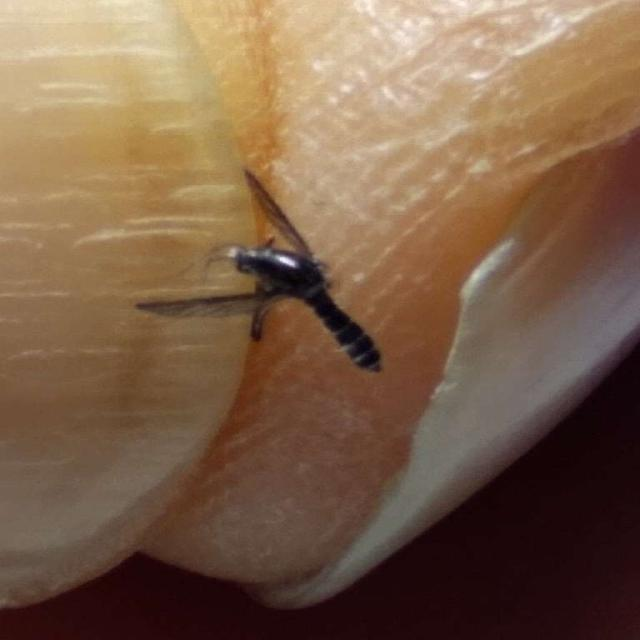albopictus: (141, 149, 395, 383)
